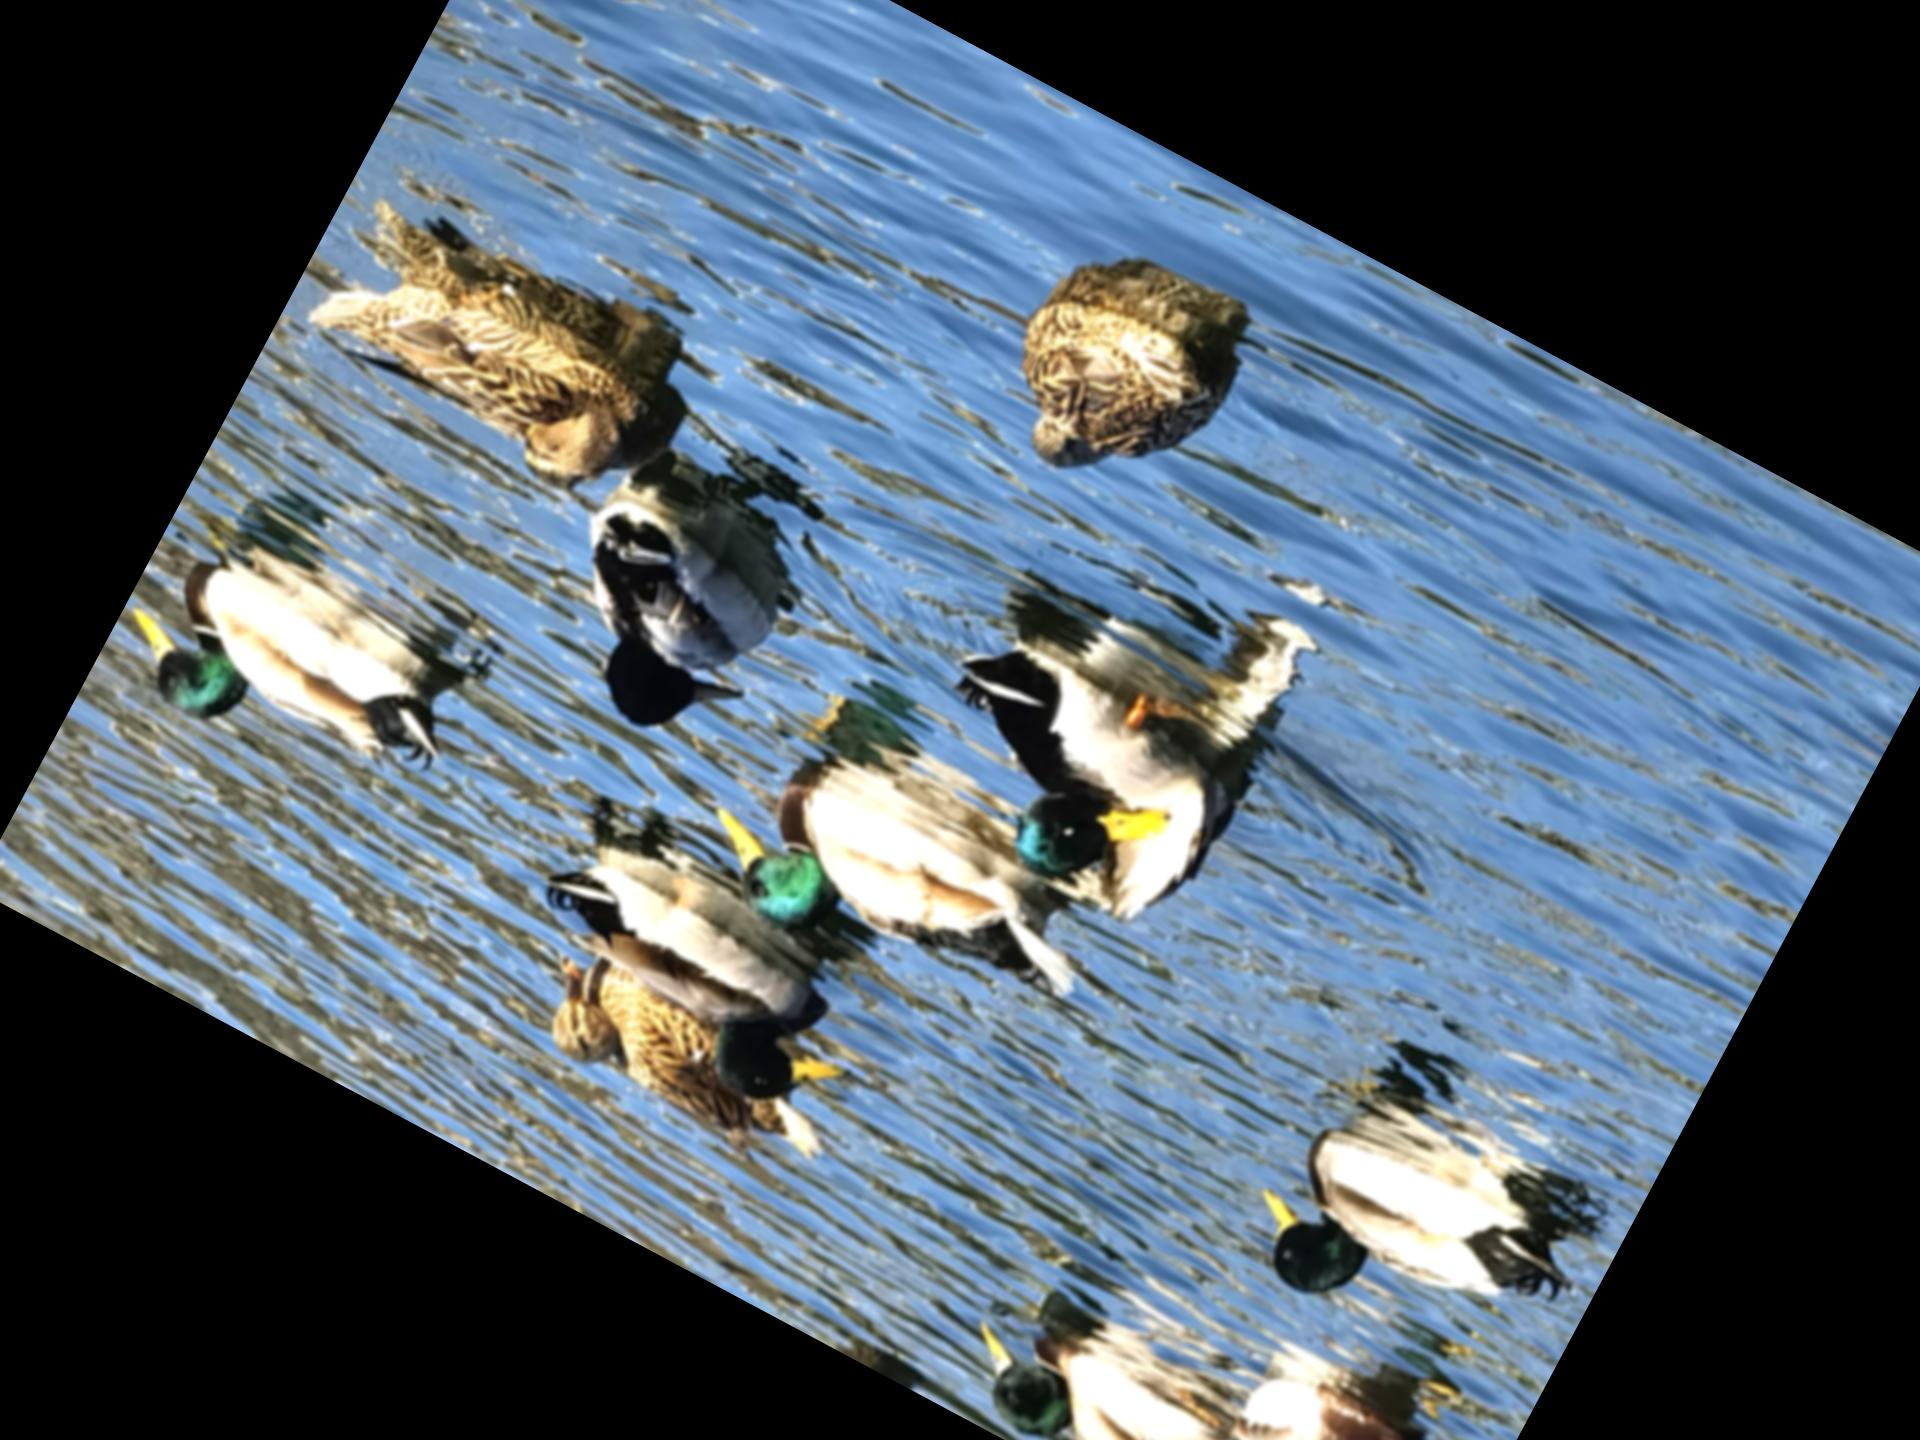duck: (668, 715, 1119, 1072), (262, 182, 708, 538), (86, 502, 493, 844), (487, 809, 906, 1139), (1211, 1074, 1606, 1422), (878, 605, 1270, 953), (490, 470, 824, 796), (482, 926, 853, 1201), (957, 231, 1264, 532), (931, 1274, 1327, 1440)
